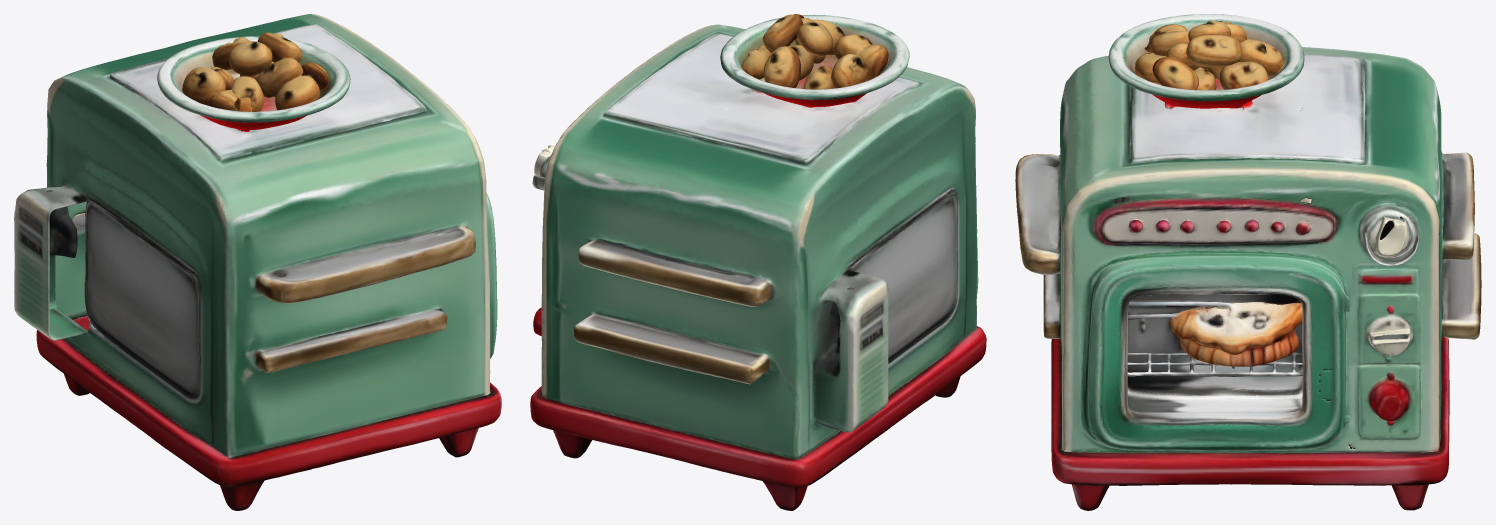
Rendered from oven.glb.
The picture shows the model from 3 angles, left to right: view 1: azimuth 30°, elevation 25°; view 2: azimuth 150°, elevation 25°; view 3: azimuth 270°, elevation 25°; orthographic projection. The views are drawn at different scales.
Visible parts, largest first — view 1: world; view 2: world; view 3: world.
Boxes of the visible parts, x1,y1,x2,y2 form: world: (14,14,501,510); world: (530,14,986,510); world: (1015,14,1481,510).
Size of the model in its own units: 0.8464 by 0.984 by 1.
1 material, 1 textured.
